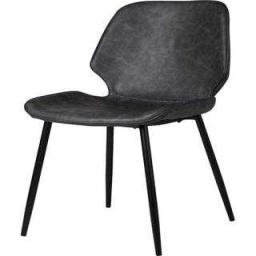Chair: (24, 0, 235, 256)
